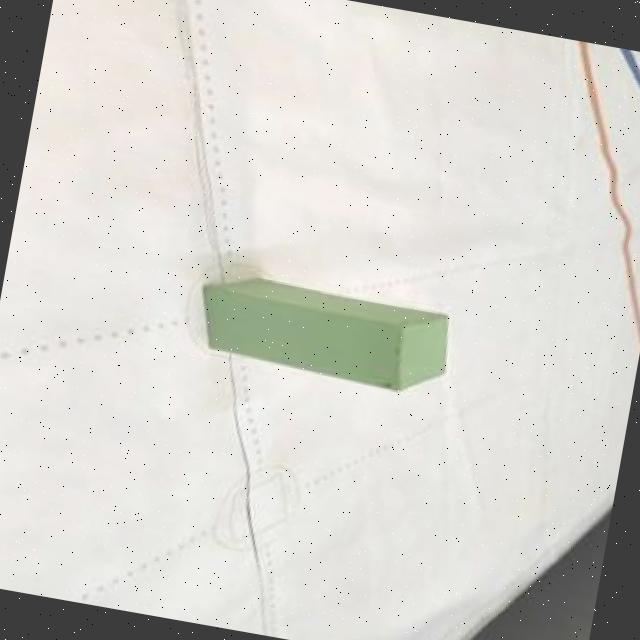greenbox: (192, 267, 454, 402)
